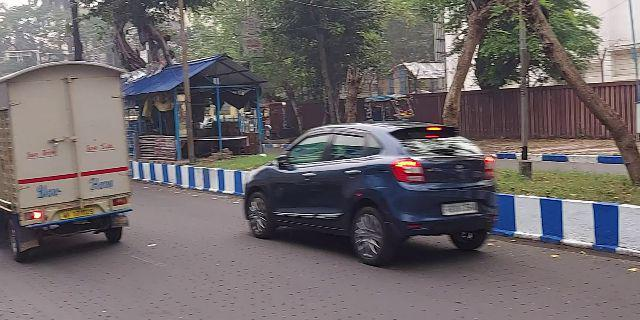Car: (240, 118, 495, 269)
Minitruck: (2, 60, 142, 262)
